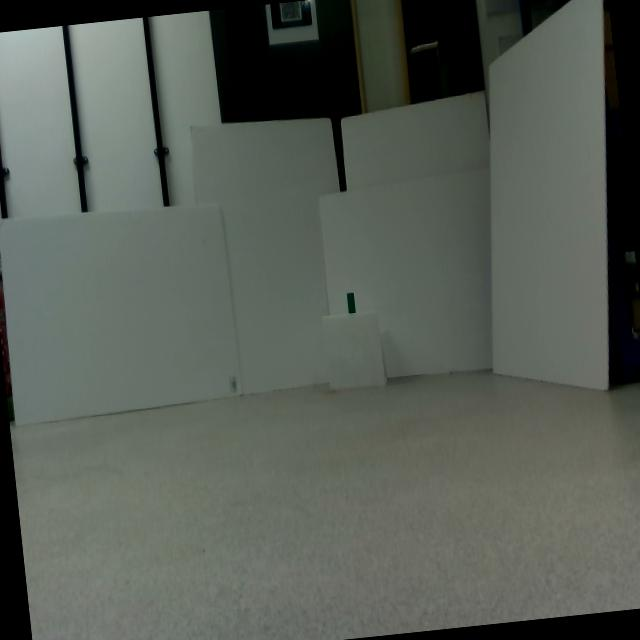green_cylinder: (346, 292, 355, 313)
